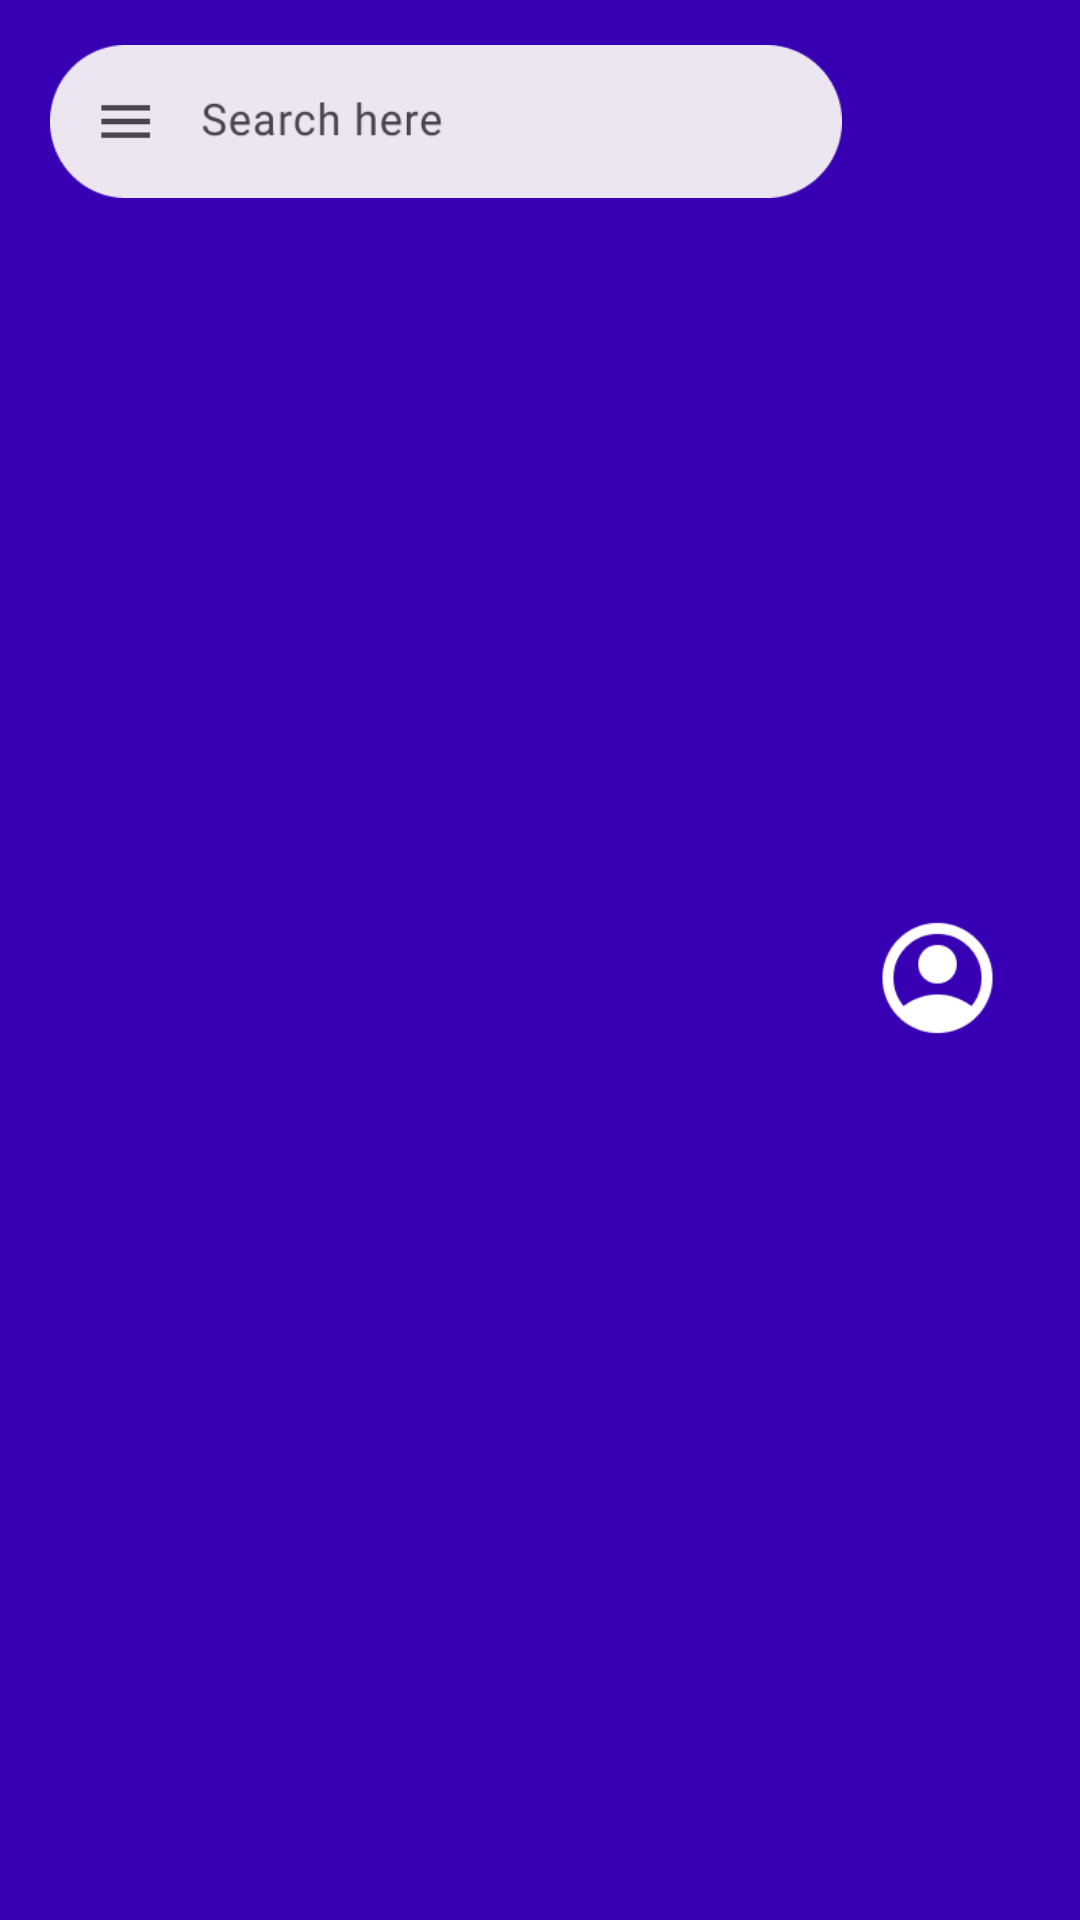

Where to tap for icons on this 1080w x 1920h app screen, as (x=x, y=y):
Profile: (x=937, y=978)
